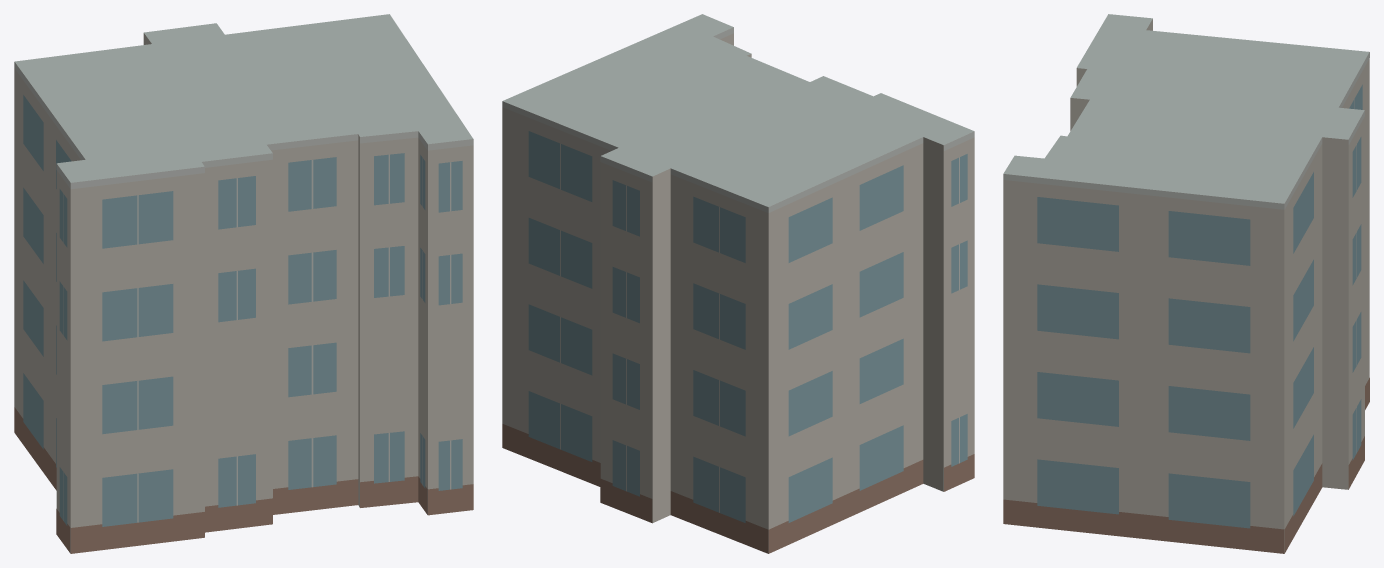
Rendered from survey-upis-32701622.glb.
3 views of the same model, side by side, from view 1: azimuth 30°, elevation 25°; view 2: azimuth 150°, elevation 25°; view 3: azimuth 270°, elevation 25° (orthographic). The views are drawn at different scales.
Visible parts, largest first — view 1: survey-upis-32701622.tmp; view 2: survey-upis-32701622.tmp; view 3: survey-upis-32701622.tmp.
Boxes of the visible parts, x1,y1,x2,y2 form: survey-upis-32701622.tmp: (14, 14, 473, 553); survey-upis-32701622.tmp: (502, 14, 974, 553); survey-upis-32701622.tmp: (1003, 14, 1369, 553).
Size of the model in its own units: 16.4 by 14.1 by 13.39.
